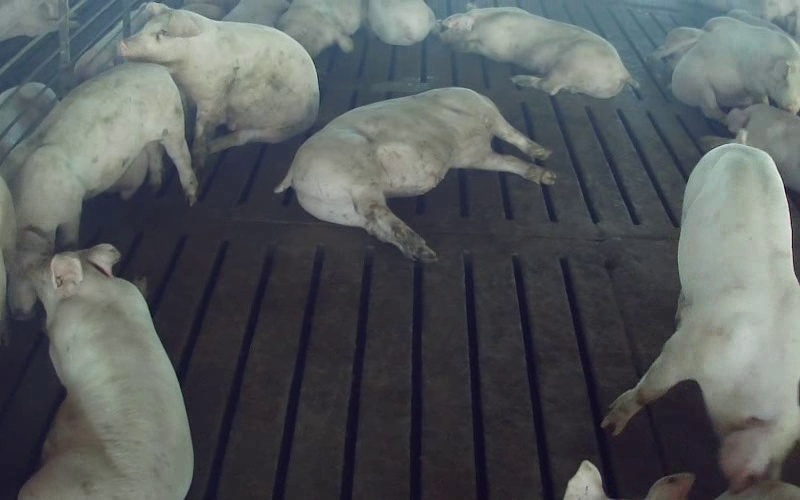pig: (602, 143, 799, 491), (275, 87, 555, 261), (10, 63, 197, 315), (20, 244, 192, 499), (121, 4, 318, 169), (440, 7, 637, 97), (672, 17, 799, 121)
